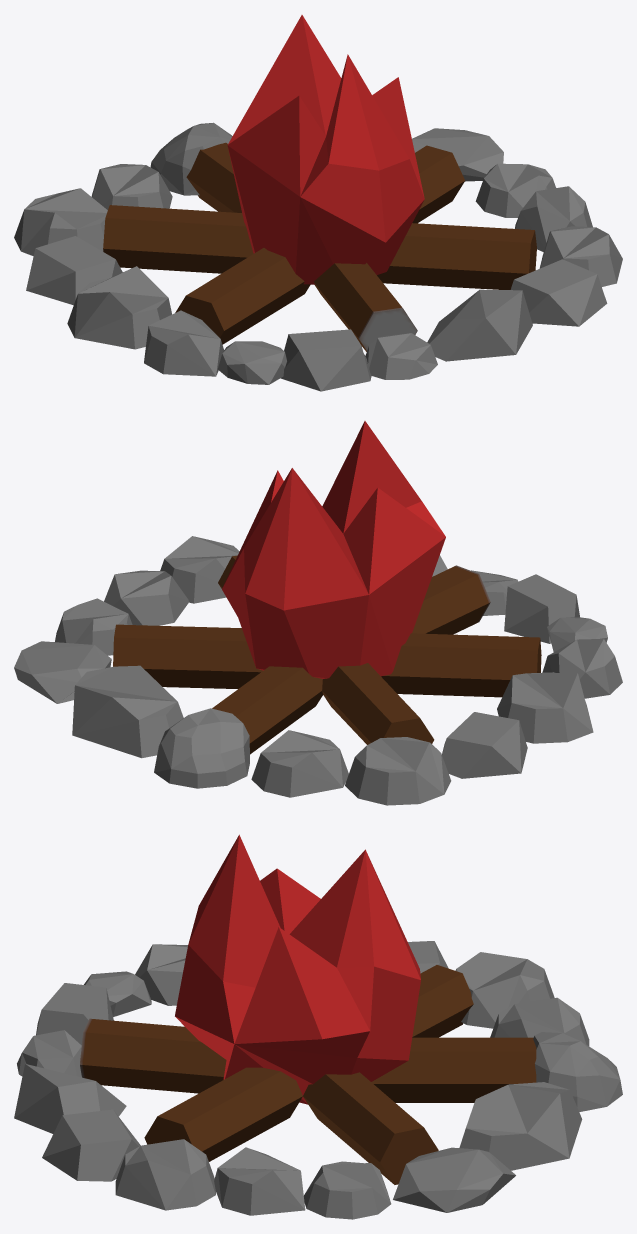
File: Bonfire lit 1.fbx
3 views of the same model, one above another, from view 1: azimuth 30°, elevation 25°; view 2: azimuth 150°, elevation 25°; view 3: azimuth 270°, elevation 25° (orthographic). The views are drawn at different scales.
Parts seen in each view (by area): view 1: Bonfire_1_Lit; view 2: Bonfire_1_Lit; view 3: Bonfire_1_Lit.
Boxes of the visible parts, x1,y1,x2,y2 form: Bonfire_1_Lit: [14, 15, 622, 391]; Bonfire_1_Lit: [14, 421, 622, 805]; Bonfire_1_Lit: [14, 834, 622, 1219].
Size of the model in its own units: 215 by 101 by 211.
Materials: 1 (1 with a texture image).
